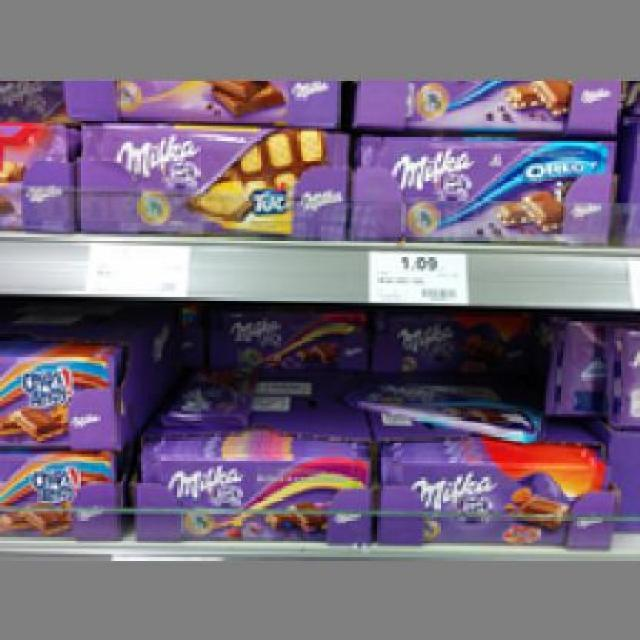Chocolate bar: (349, 126, 620, 246), (70, 120, 347, 237), (136, 451, 372, 544), (380, 451, 609, 546), (2, 346, 124, 443), (2, 450, 120, 532)
